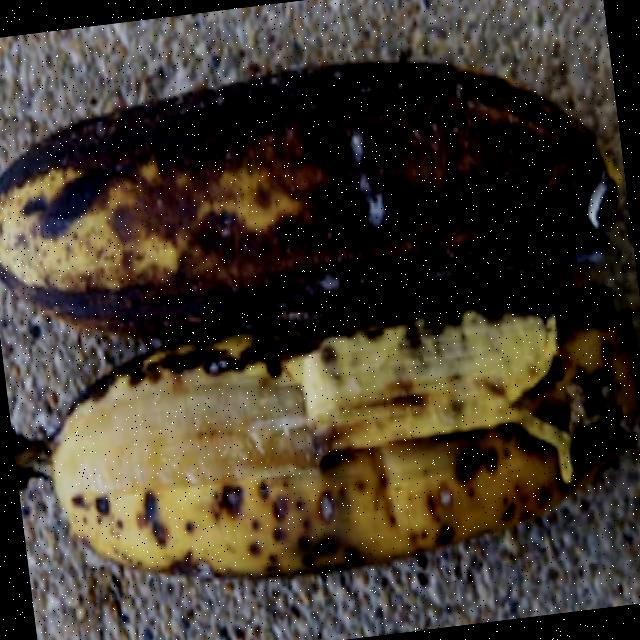Rotten: (0, 236, 640, 626), (0, 12, 639, 373)
